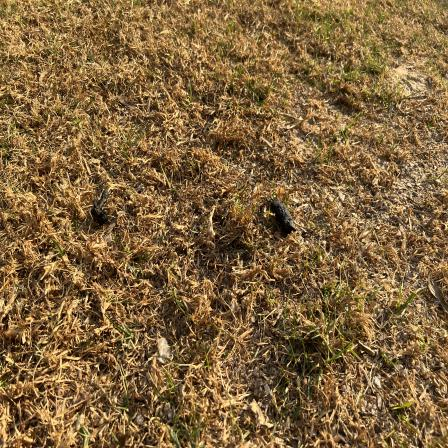dog-poop: (266, 189, 305, 247), (88, 179, 118, 231)
